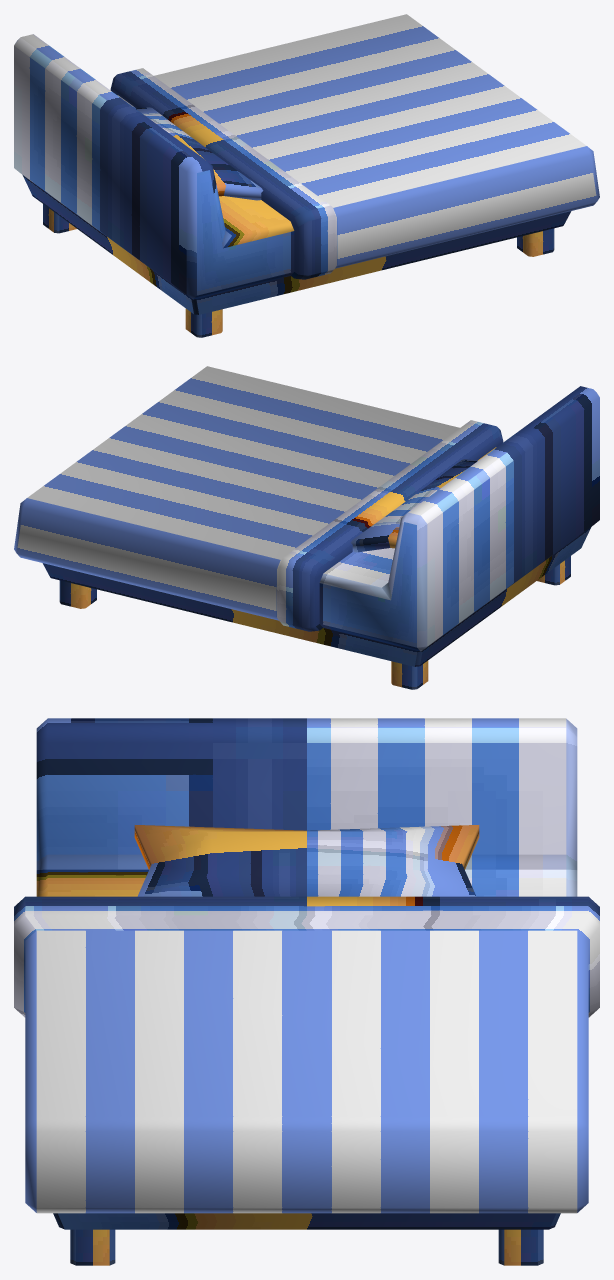
Rendered from rmk_str_bedW.dae.
The picture shows the model from 3 angles, top to bottom: view 1: azimuth 30°, elevation 25°; view 2: azimuth 150°, elevation 25°; view 3: azimuth 270°, elevation 25°; orthographic projection. The views are drawn at different scales.
Parts seen in each view (by area): view 1: rmk_str_bedW; view 2: rmk_str_bedW; view 3: rmk_str_bedW.
Boxes of the visible parts, left/top/right/bottom form: rmk_str_bedW: left=14, top=14, right=599, bottom=337; rmk_str_bedW: left=14, top=366, right=599, bottom=689; rmk_str_bedW: left=14, top=718, right=599, bottom=1265.
Size of the model in its own units: 63 by 27 by 52.
Materials: 2 (2 with a texture image).
